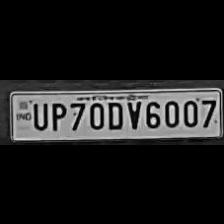0: (85, 98, 105, 130), (162, 96, 180, 126), (180, 96, 198, 126)
6: (142, 96, 160, 128)
7: (66, 98, 84, 130), (198, 96, 216, 127)
D: (105, 97, 125, 129)
P: (47, 99, 66, 130)
U: (30, 98, 48, 130)
V: (125, 97, 141, 129)
